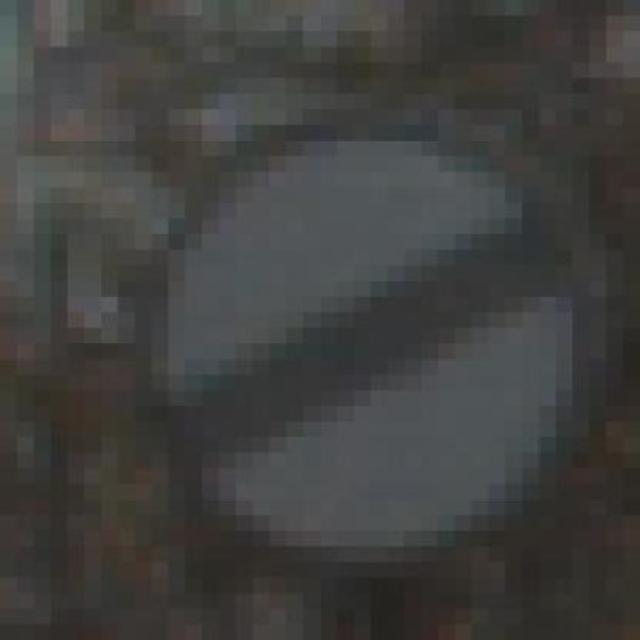End of all speed and passing limits: (84, 125, 590, 578)
